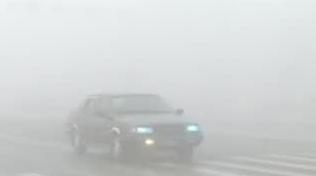car: (66, 92, 203, 163)
